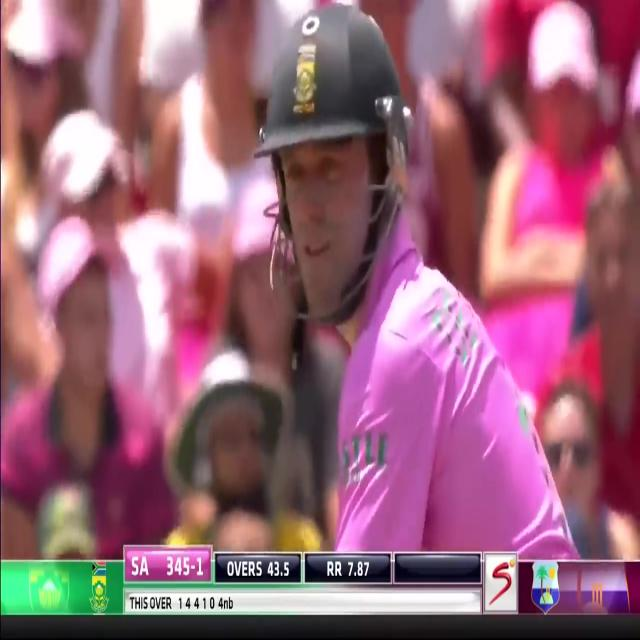Ball: (189, 1, 565, 561)
